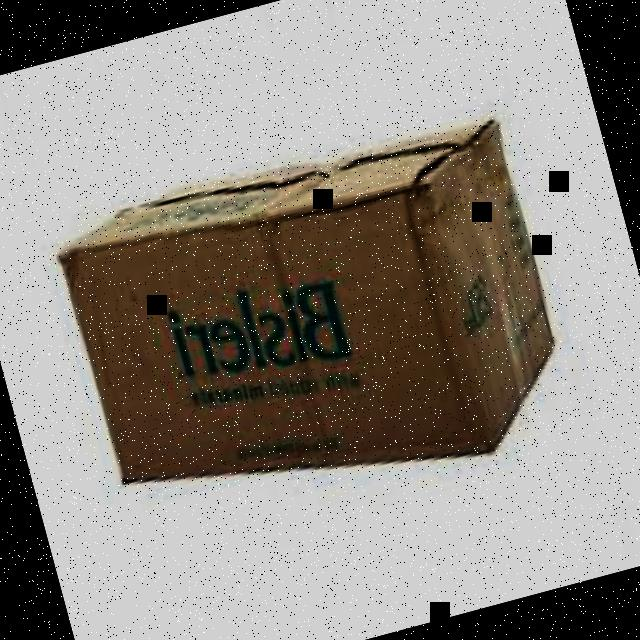cardboard_box: (53, 91, 596, 558)
